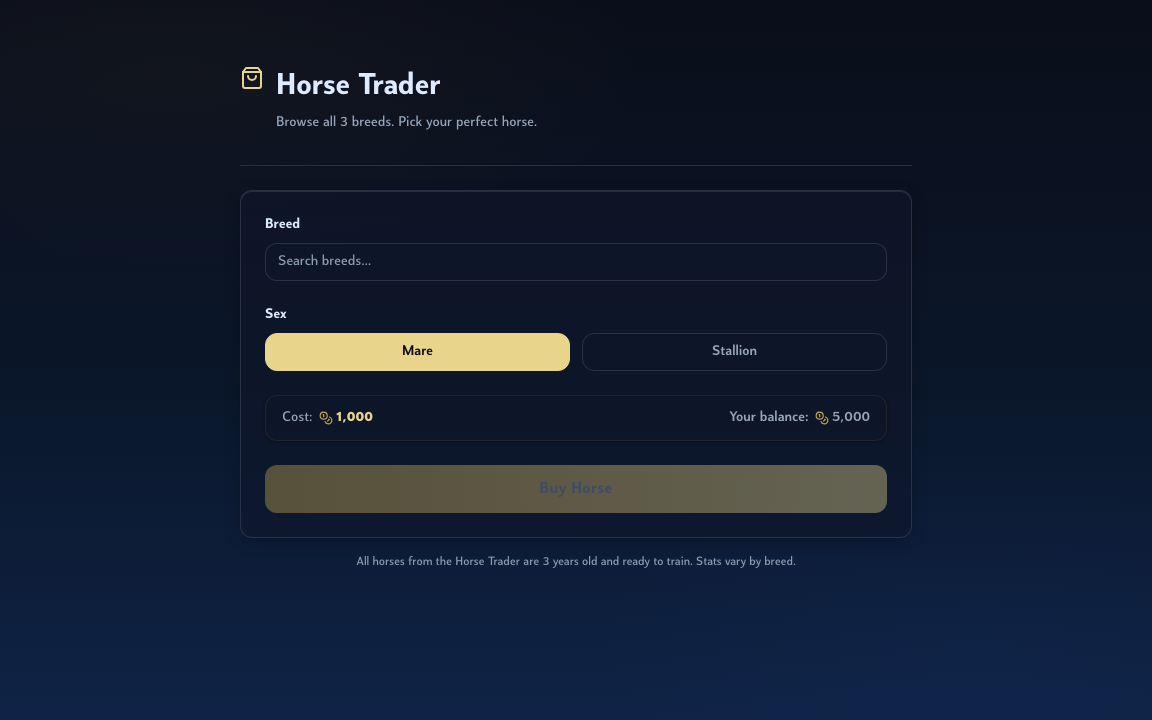
HorseTraderPage breed combobox (Equoria-4yocc) › moves through the options with the arrow keys and picks one with Enter
Click the dropdown labelled "Breed": (576,262) [265, 243, 887, 281]
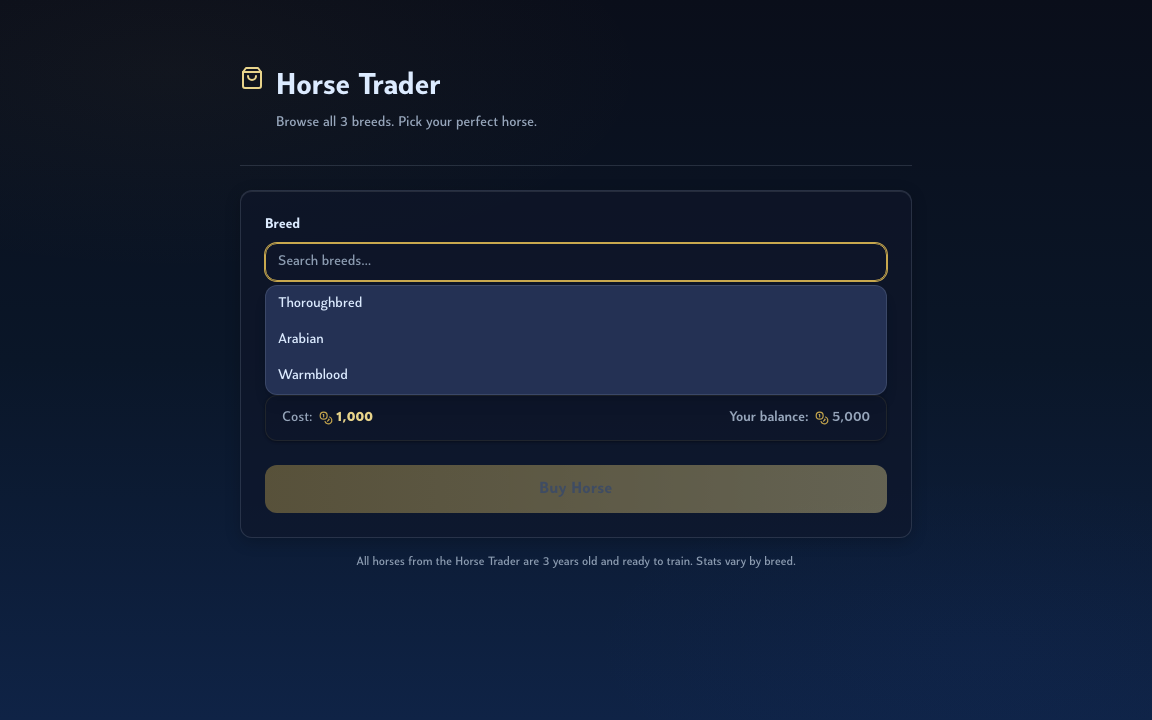
Press Arrowdown
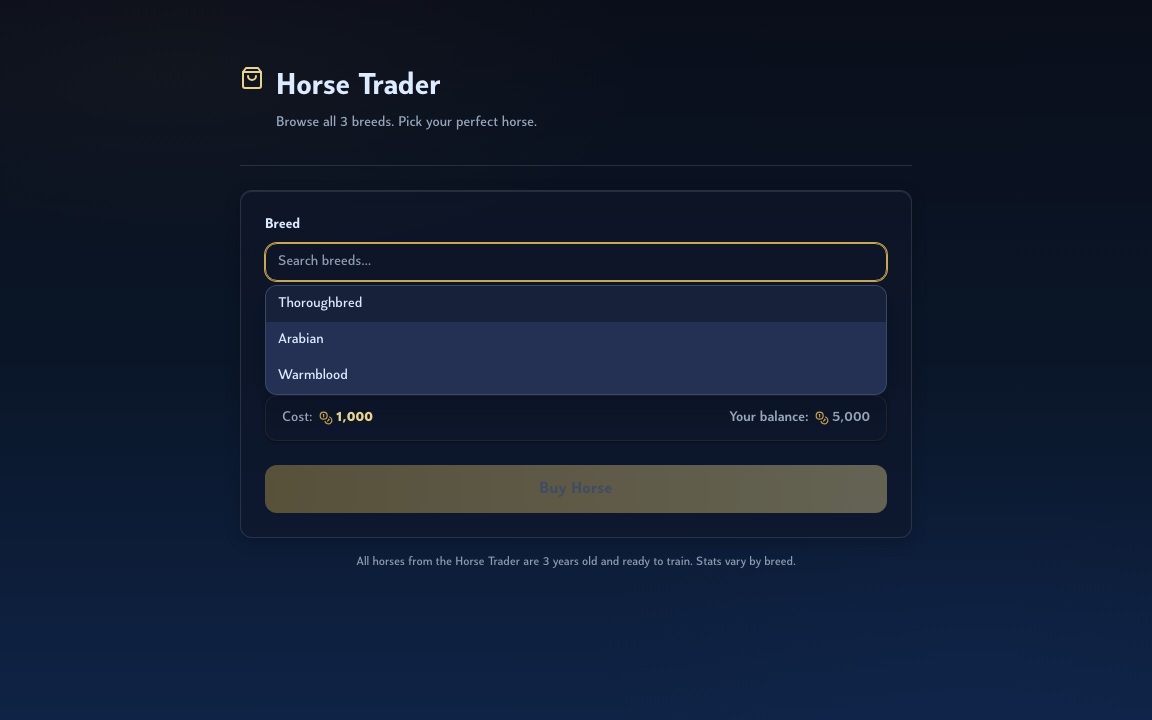
Check: the option "Thoroughbred" is selected, box [266, 286, 886, 322]
Press Arrowdown
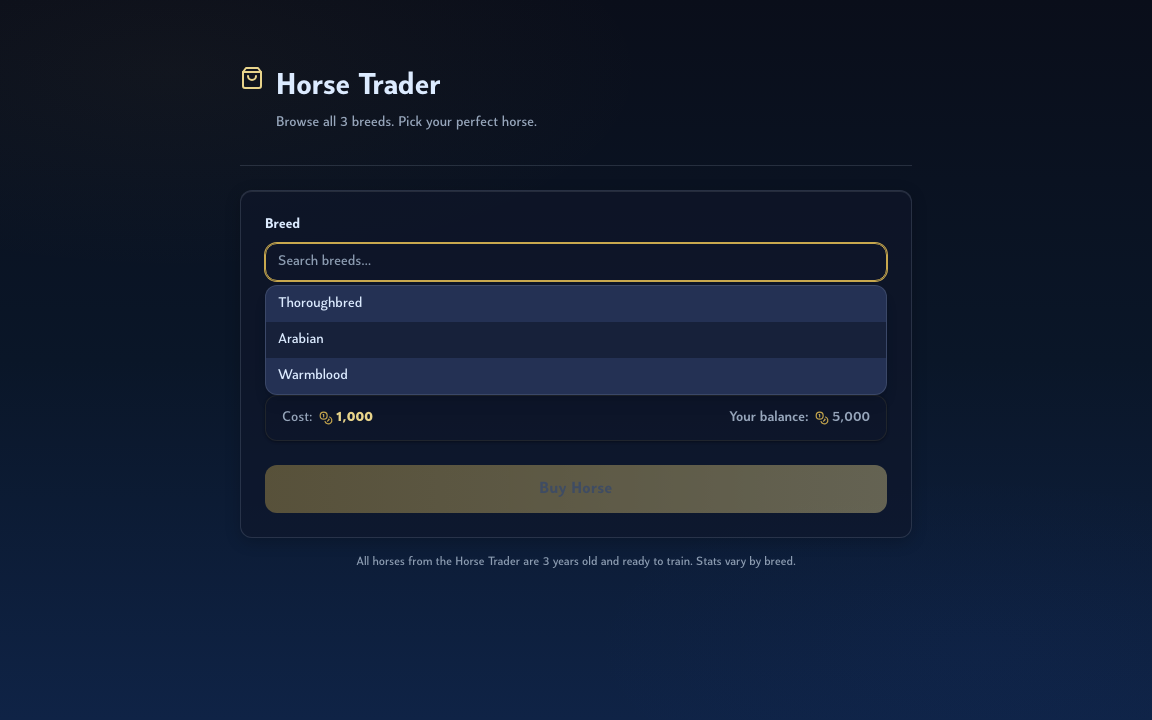
Press Enter
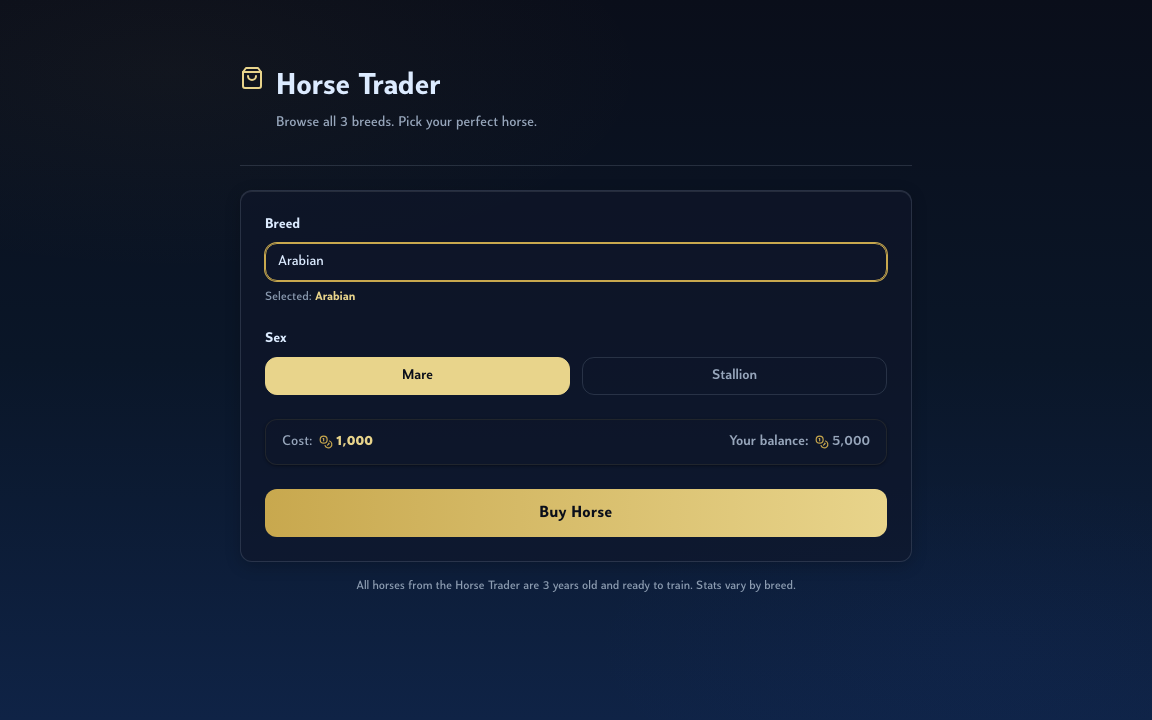
Check: the dropdown labelled "Breed" holds "Arabian", box [265, 243, 887, 281]
Check: the dropdown labelled "Breed" is collapsed, box [265, 243, 887, 281]
Check: the list is gone
